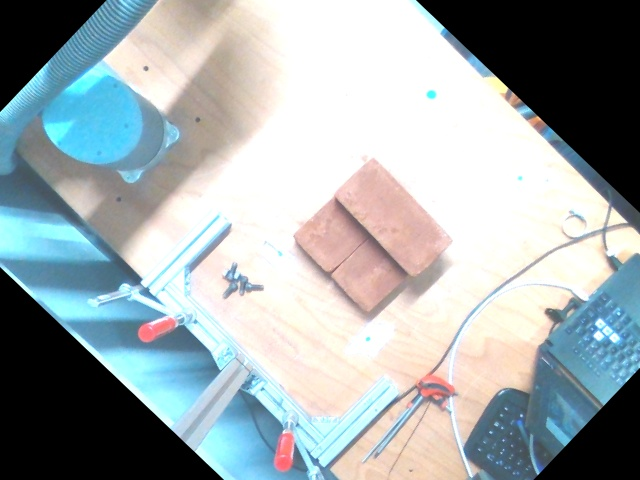brick: (337, 158, 452, 276)
